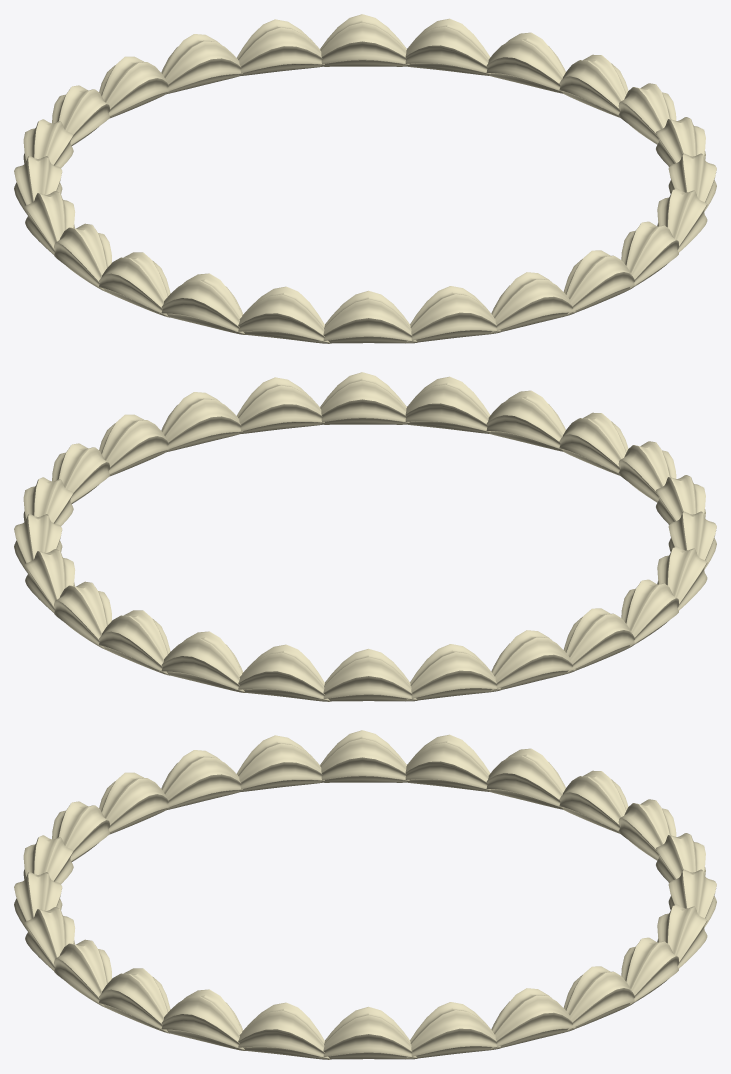
File: cakeDecorCream.glb
3 renders of one model, top to bottom at view 1: azimuth 30°, elevation 25°; view 2: azimuth 150°, elevation 25°; view 3: azimuth 270°, elevation 25°, orthographic.
Parts seen in each view (by area): view 1: Star.005, Star.017, Star.004, Star.006, Star.016, Star.018, Star.003, Star.007, Star.015, Star.019, Star.002, Star.008 (+12 smaller); view 2: Star.021, Star.009, Star.020, Star.022, Star.008, Star.010, Star.019, Star.023, Star.007, Star.011, Star.018, Star.024 (+12 smaller); view 3: Star.013, Star.001, Star.012, Star.014, Star.024, Star.002, Star.011, Star.015, Star.023, Star.003, Star.010, Star.016 (+12 smaller).
Part boxes in pixels (left/top/right/bottom): Star.005: left=319, top=290, right=417, bottom=343; Star.017: left=319, top=14, right=409, bottom=66; Star.004: left=234, top=286, right=331, bottom=343; Star.006: left=406, top=286, right=500, bottom=342; Star.016: left=403, top=18, right=490, bottom=75; Star.018: left=236, top=19, right=324, bottom=75; Star.003: left=159, top=273, right=245, bottom=334; Star.007: left=491, top=272, right=575, bottom=332; Star.015: left=486, top=32, right=565, bottom=93; Star.019: left=161, top=34, right=242, bottom=94; Star.002: left=99, top=252, right=170, bottom=317; Star.008: left=563, top=250, right=635, bottom=314; Star.021: left=319, top=648, right=417, bottom=701; Star.009: left=319, top=372, right=409, bottom=424; Star.020: left=234, top=644, right=331, bottom=701; Star.022: left=406, top=644, right=500, bottom=700; Star.008: left=403, top=376, right=490, bottom=433; Star.010: left=236, top=377, right=324, bottom=433; Star.019: left=159, top=631, right=245, bottom=692; Star.023: left=491, top=630, right=575, bottom=690; Star.007: left=486, top=390, right=565, bottom=451; Star.011: left=161, top=392, right=242, bottom=452; Star.018: left=99, top=610, right=170, bottom=675; Star.024: left=563, top=608, right=635, bottom=672; Star.013: left=319, top=1006, right=417, bottom=1059; Star.001: left=319, top=730, right=409, bottom=782; Star.012: left=234, top=1002, right=331, bottom=1059; Star.014: left=406, top=1002, right=500, bottom=1058; Star.024: left=403, top=734, right=490, bottom=791; Star.002: left=236, top=735, right=324, bottom=791; Star.011: left=159, top=989, right=245, bottom=1050; Star.015: left=491, top=988, right=575, bottom=1048; Star.023: left=486, top=748, right=565, bottom=809; Star.003: left=161, top=750, right=242, bottom=810; Star.010: left=99, top=968, right=170, bottom=1033; Star.016: left=563, top=966, right=635, bottom=1030.
Bounding box in the file's own units: 1.92 × 0.1424 × 1.92.
